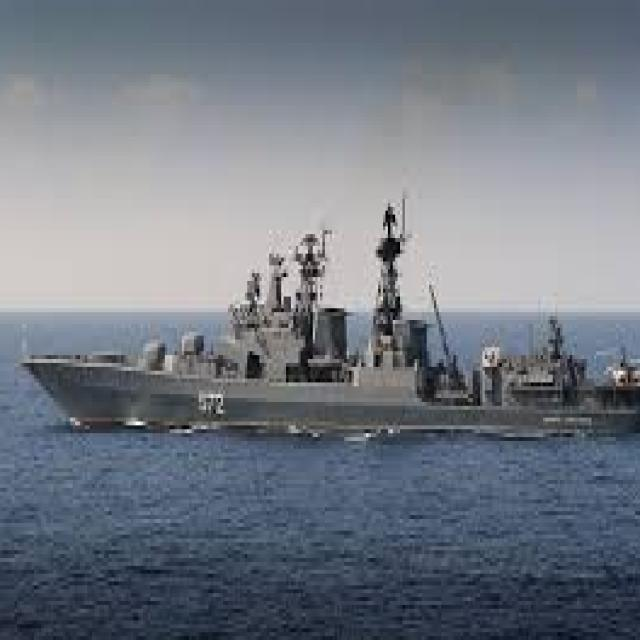navalvessels: (22, 148, 640, 472)
